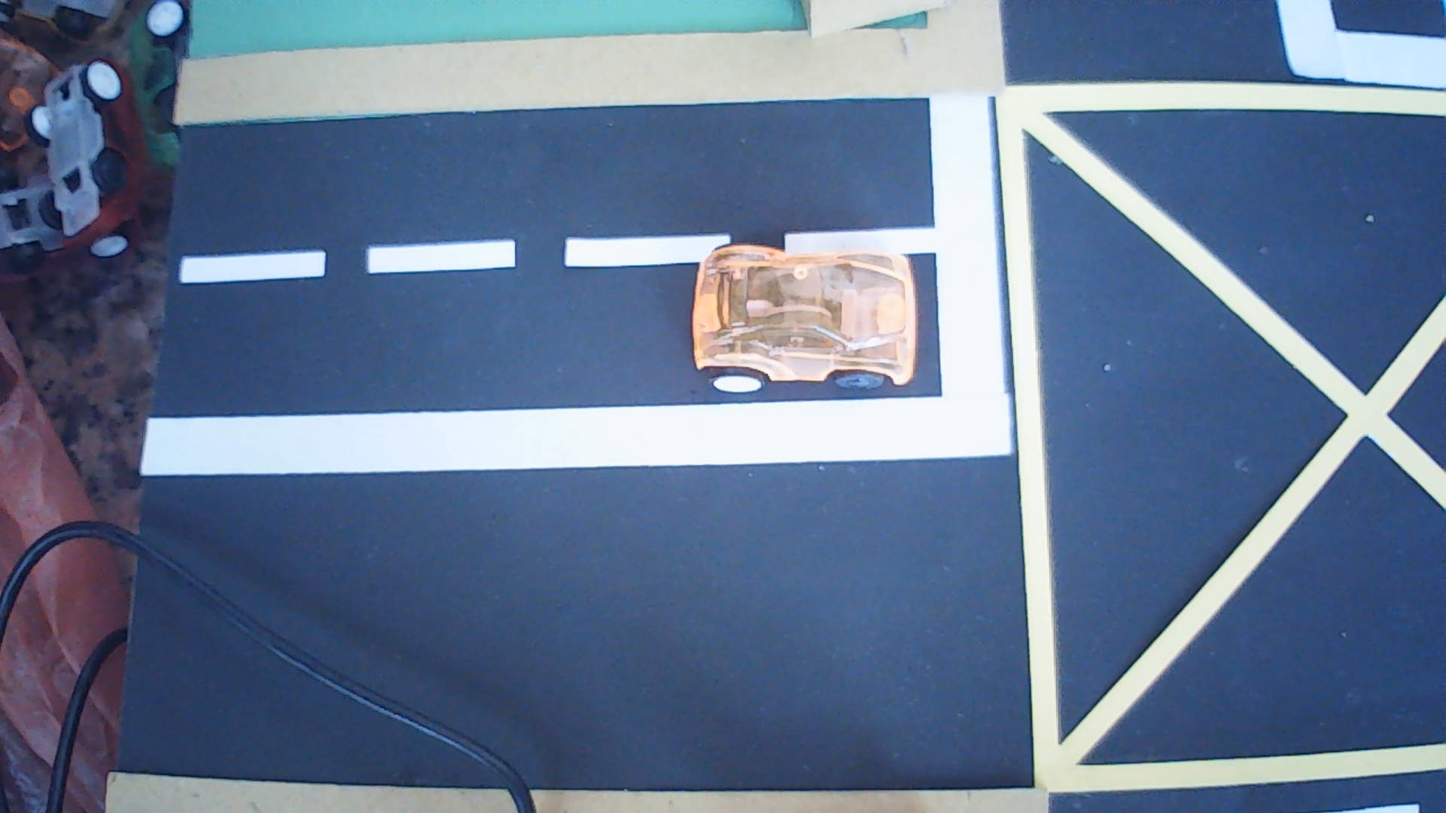Mobil orange: (691, 245, 917, 393)
